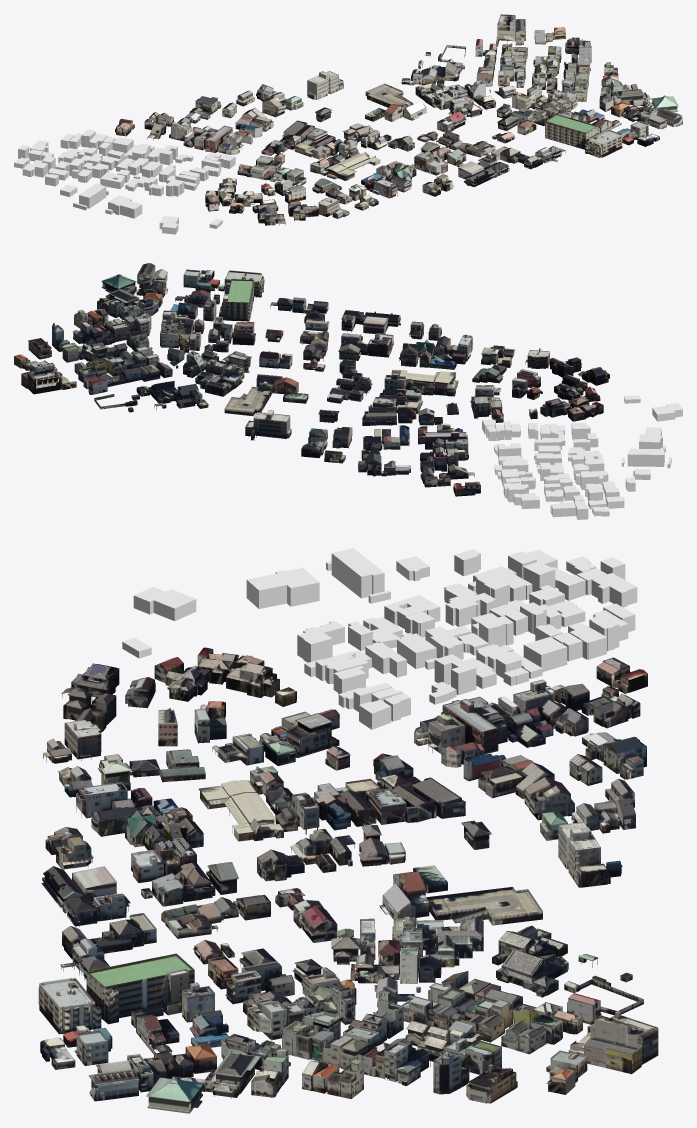
File: 2023-lod3-station-4-0-packed.glb
The picture shows the model from 3 angles, top to bottom: view 1: azimuth 30°, elevation 25°; view 2: azimuth 150°, elevation 25°; view 3: azimuth 270°, elevation 25°; orthographic projection. The views are drawn at different scales.
Size of the model in its own units: 504 by 18.38 by 240.
Materials: 5 (4 with a texture image).
